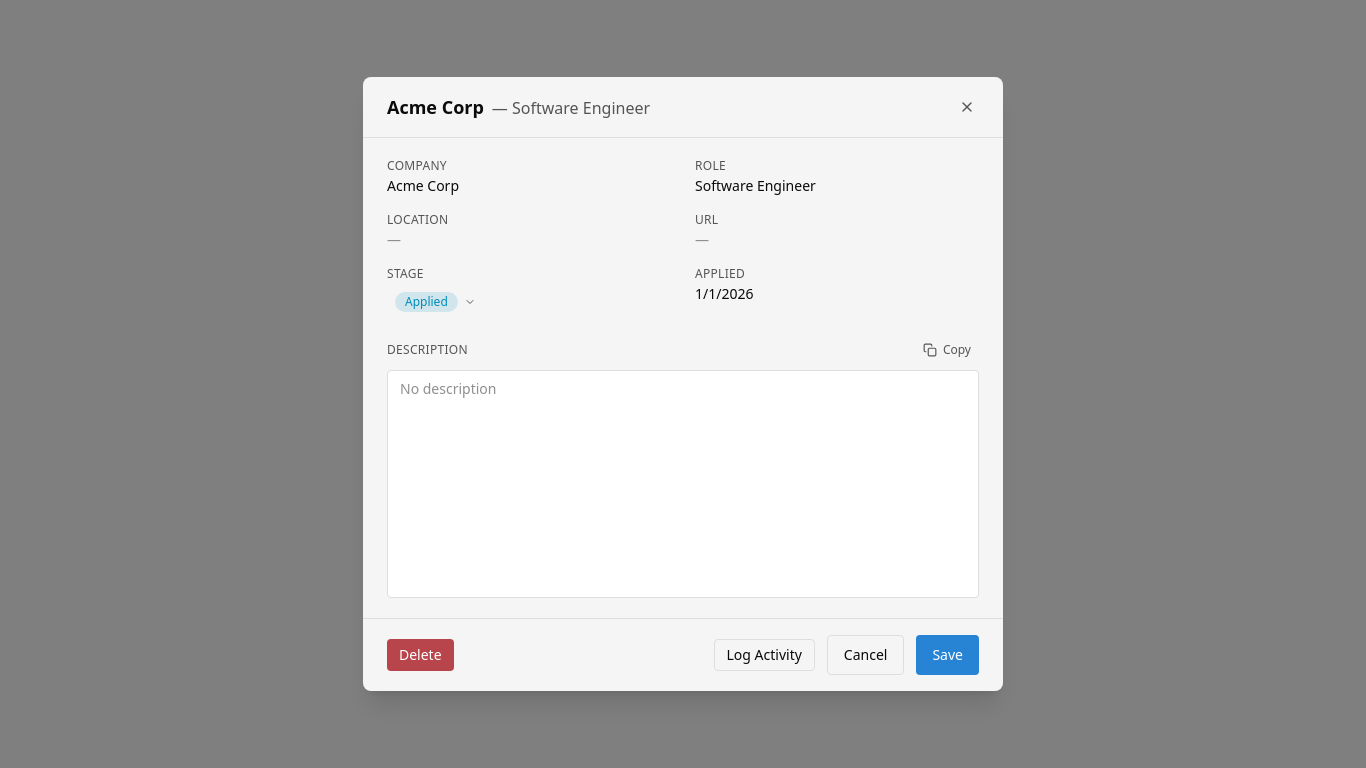
Test: JobApplicationDetailModal › opens LogActivityModal when "Log Activity" button clicked
The image size is (1366, 768).
Click the button "Log Activity" at (764, 655), box [714,639,815,671]
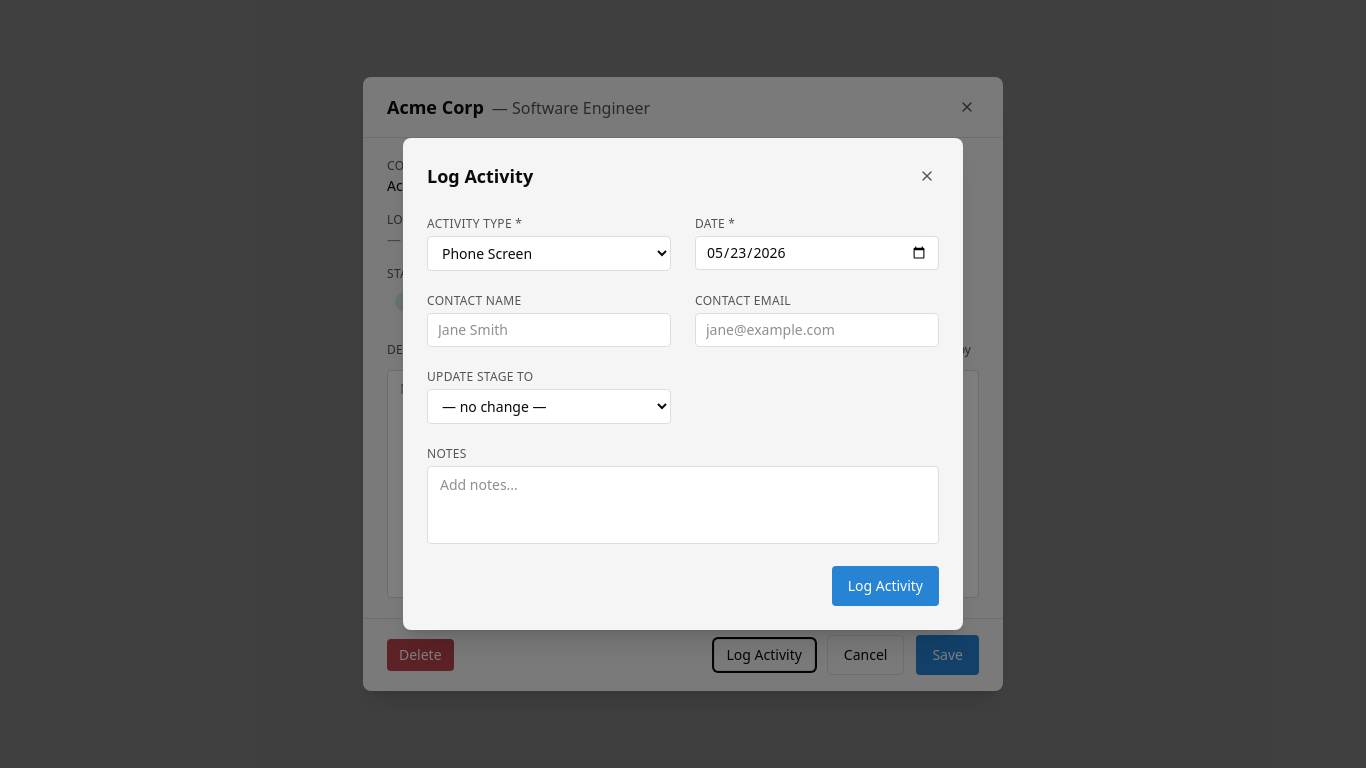
Result: the dialog "Log Activity" is shown at [403,138,963,630]
